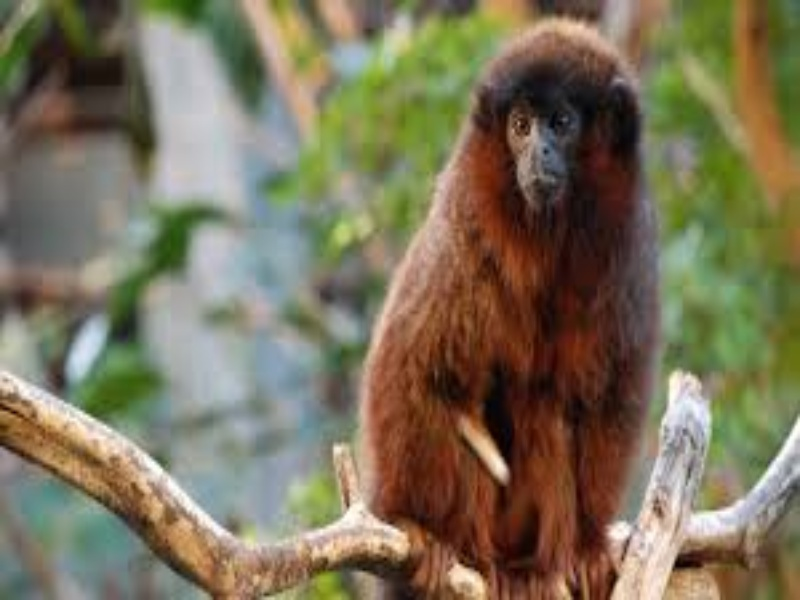monkey: (339, 15, 671, 583)
